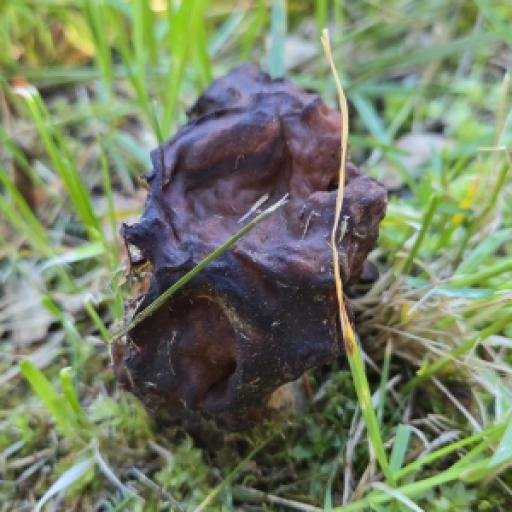mushroom: (136, 56, 374, 420)
